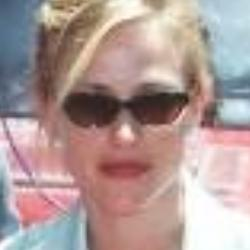face: (21, 1, 226, 217)
